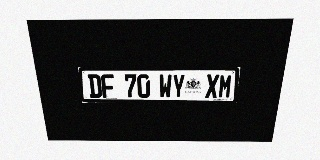0: (137, 74, 150, 98)
7: (124, 74, 137, 98)
D: (88, 74, 102, 98)
F: (101, 74, 115, 98)
M: (218, 74, 233, 98)
W: (159, 74, 172, 98)
X: (205, 74, 219, 98)
Y: (172, 74, 185, 98)
